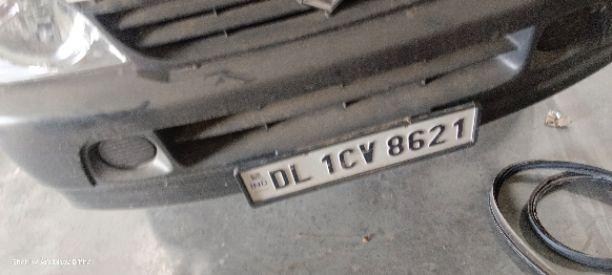license_plate: (234, 99, 481, 205)
